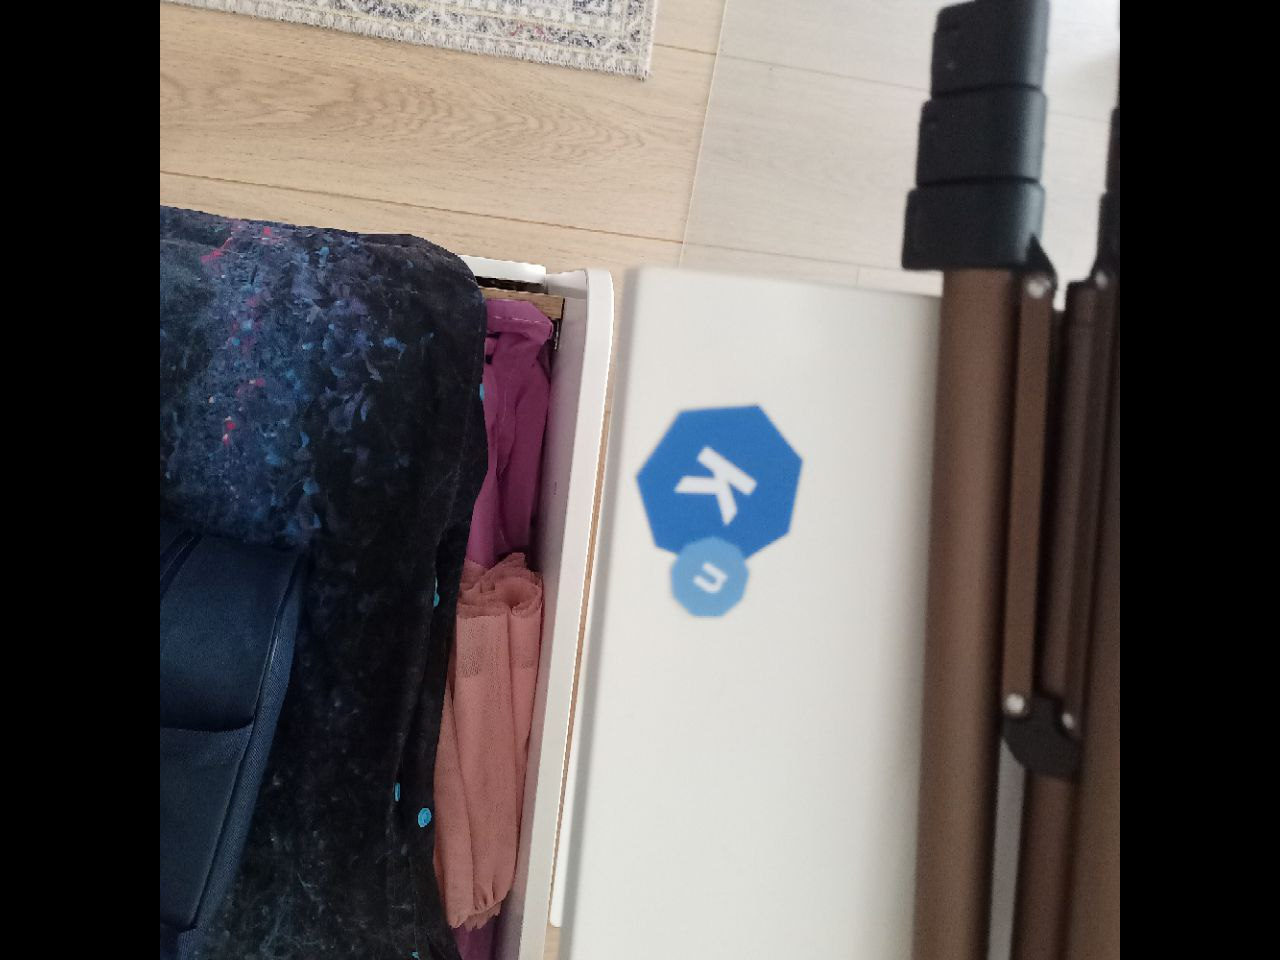knative: (632, 401, 808, 619)
